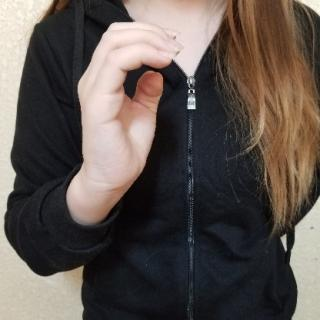JEEM: (72, 13, 189, 205)
